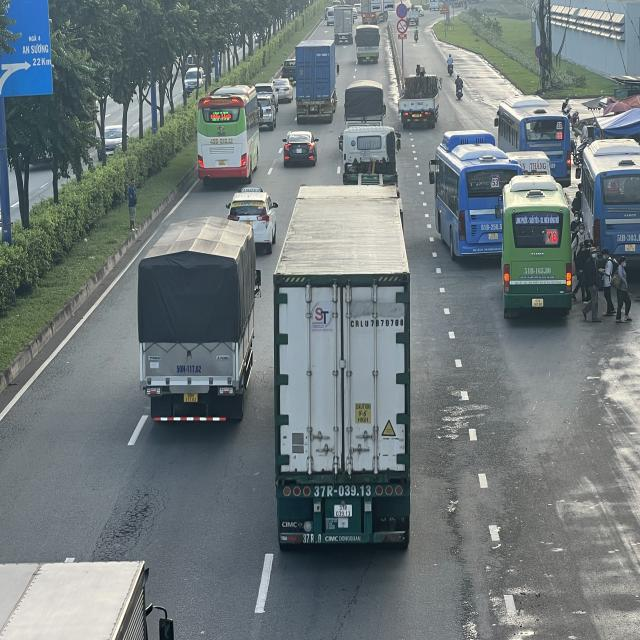car: (281, 131, 319, 168)
coach: (428, 137, 521, 265), (576, 142, 638, 314), (500, 175, 574, 316), (194, 85, 258, 184), (494, 93, 572, 168)
container: (271, 184, 406, 542), (340, 123, 400, 186), (294, 43, 336, 123)
truck: (134, 215, 258, 428), (400, 72, 442, 126), (354, 25, 380, 64), (335, 8, 354, 44)
